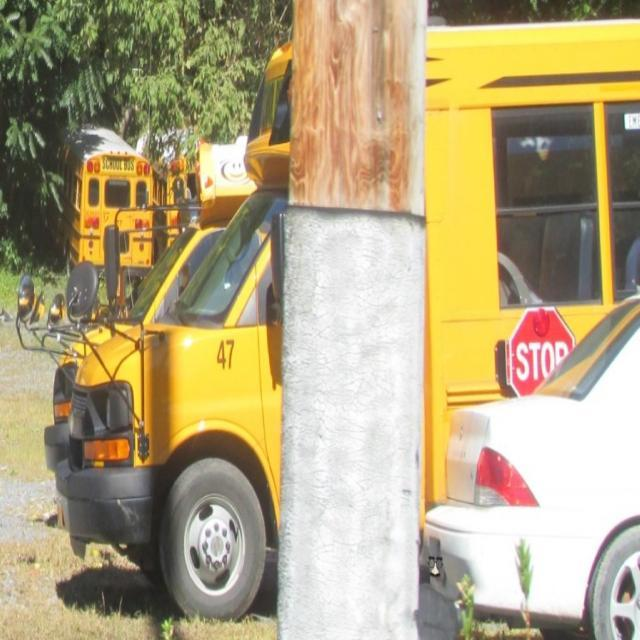motorcycle: (57, 126, 154, 272), (128, 125, 208, 253)
truck: (70, 36, 640, 604), (424, 286, 640, 639)
